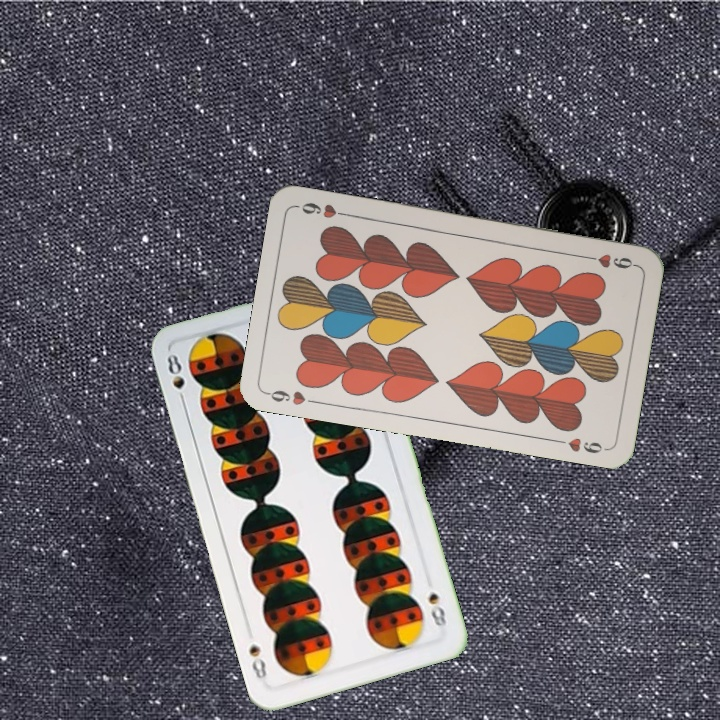H9: (579, 249, 638, 271), (263, 386, 322, 408)
S8: (163, 349, 189, 408), (424, 588, 449, 629)
